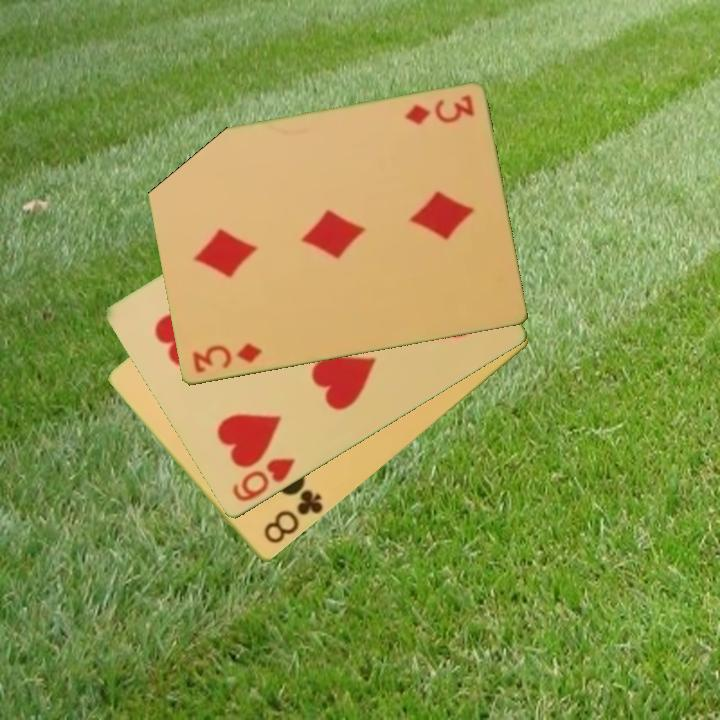3d: (188, 340, 265, 377), (401, 92, 477, 129)
6h: (228, 455, 298, 506)
8c: (260, 481, 326, 547)
